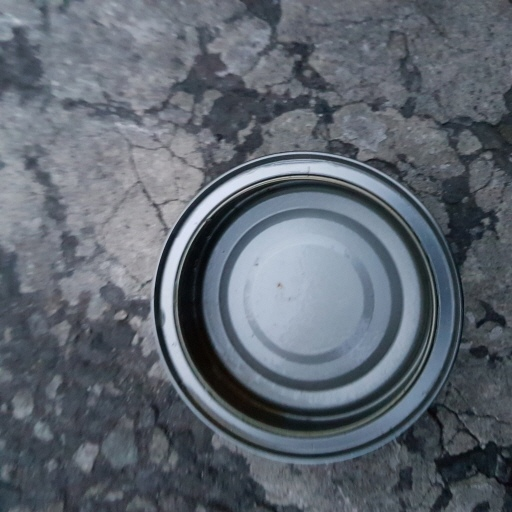Metal_1: (148, 151, 464, 467)
